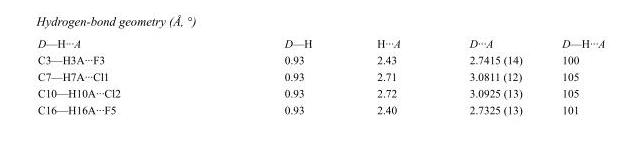table: (37, 36, 604, 115)
table column: (37, 36, 201, 115), (201, 36, 343, 115), (434, 36, 541, 115), (343, 36, 434, 115), (541, 36, 604, 115)
table row: (37, 67, 604, 84), (37, 84, 604, 101), (37, 51, 604, 67), (37, 36, 604, 51), (37, 101, 604, 115)
